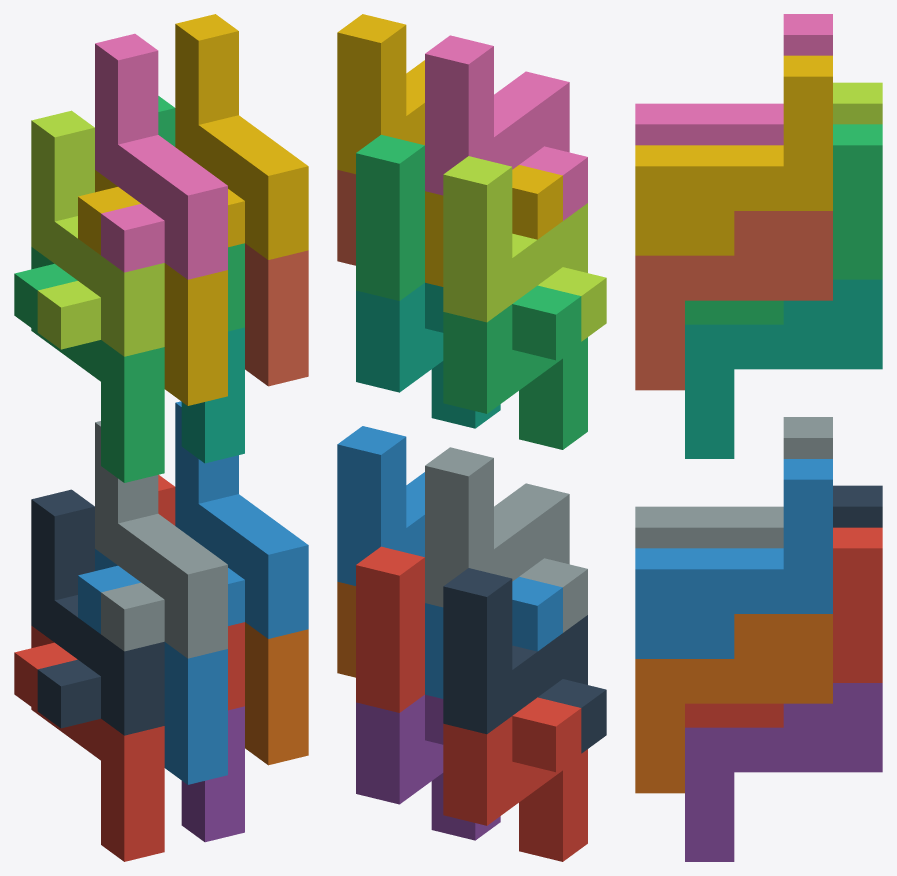
File: tiling.obj
The picture shows the model from 3 angles, left to right: view 1: azimuth 30°, elevation 25°; view 2: azimuth 150°, elevation 25°; view 3: azimuth 270°, elevation 25°; orthographic projection. The views are drawn at different scales.
Visible parts, largest first — view 1: copy_2_domain_4, copy_2_domain_3, copy_2_domain_1, copy_2_domain_8, copy_2_domain_2, copy_2_domain_6, copy_1_domain_1, copy_1_domain_3, copy_1_domain_2, copy_1_domain_4, copy_1_domain_8, copy_1_domain_6 (+4 smaller); view 2: copy_1_domain_1, copy_1_domain_3, copy_2_domain_3, copy_2_domain_1, copy_2_domain_4, copy_2_domain_2, copy_2_domain_5, copy_2_domain_7, copy_2_domain_8, copy_2_domain_6, copy_1_domain_5, copy_1_domain_7 (+4 smaller); view 3: copy_2_domain_8, copy_2_domain_6, copy_1_domain_8, copy_1_domain_6, copy_1_domain_7, copy_1_domain_5, copy_2_domain_5, copy_2_domain_7, copy_2_domain_2, copy_2_domain_4, copy_2_domain_1, copy_2_domain_3.
Boxes of the visible parts, x1,y1,x2,y2 form: copy_2_domain_4: (95, 33, 227, 279); copy_2_domain_3: (31, 110, 164, 356); copy_2_domain_1: (31, 489, 164, 735); copy_2_domain_8: (175, 14, 308, 259); copy_2_domain_2: (95, 421, 227, 658); copy_2_domain_6: (175, 401, 308, 638); copy_1_domain_1: (14, 626, 164, 861); copy_1_domain_3: (14, 247, 164, 482); copy_1_domain_2: (78, 549, 227, 784); copy_1_domain_4: (78, 170, 227, 405); copy_1_domain_8: (245, 243, 308, 386); copy_1_domain_6: (245, 622, 308, 765); copy_1_domain_1: (443, 697, 587, 861); copy_1_domain_3: (443, 285, 587, 449); copy_2_domain_3: (443, 156, 606, 341); copy_2_domain_1: (443, 568, 606, 753); copy_2_domain_4: (425, 35, 587, 220); copy_2_domain_2: (425, 447, 587, 632); copy_2_domain_5: (356, 546, 424, 712); copy_2_domain_7: (356, 134, 424, 300); copy_2_domain_8: (337, 14, 424, 174); copy_2_domain_6: (337, 426, 424, 585); copy_1_domain_5: (356, 694, 500, 840); copy_1_domain_7: (356, 282, 500, 428); copy_2_domain_8: (635, 55, 832, 255); copy_2_domain_6: (635, 459, 832, 658); copy_1_domain_8: (635, 211, 832, 390); copy_1_domain_6: (635, 614, 832, 793); copy_1_domain_7: (685, 279, 882, 458); copy_1_domain_5: (685, 683, 882, 861); copy_2_domain_5: (685, 527, 882, 727); copy_2_domain_7: (685, 124, 882, 324); copy_2_domain_2: (635, 417, 832, 548); copy_2_domain_4: (635, 14, 832, 145); copy_2_domain_1: (833, 485, 882, 527); copy_2_domain_3: (833, 82, 882, 124).
Bounding box in the file's own units: 5 × 18 × 5.
